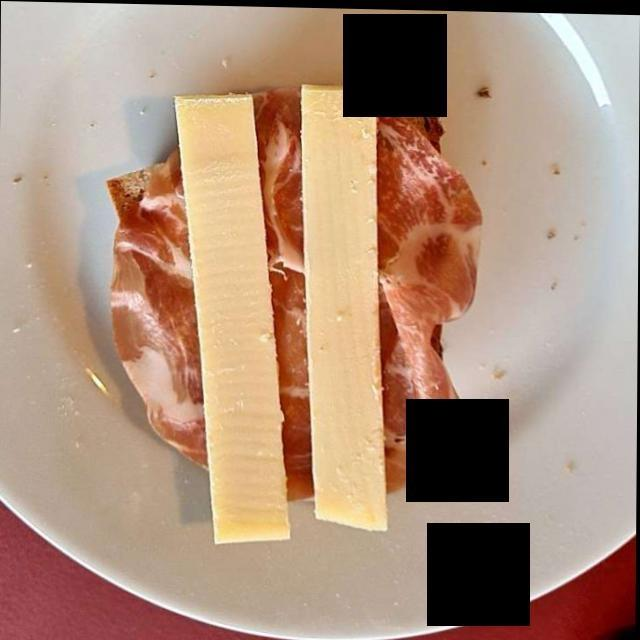gruyere: (179, 76, 390, 540)
